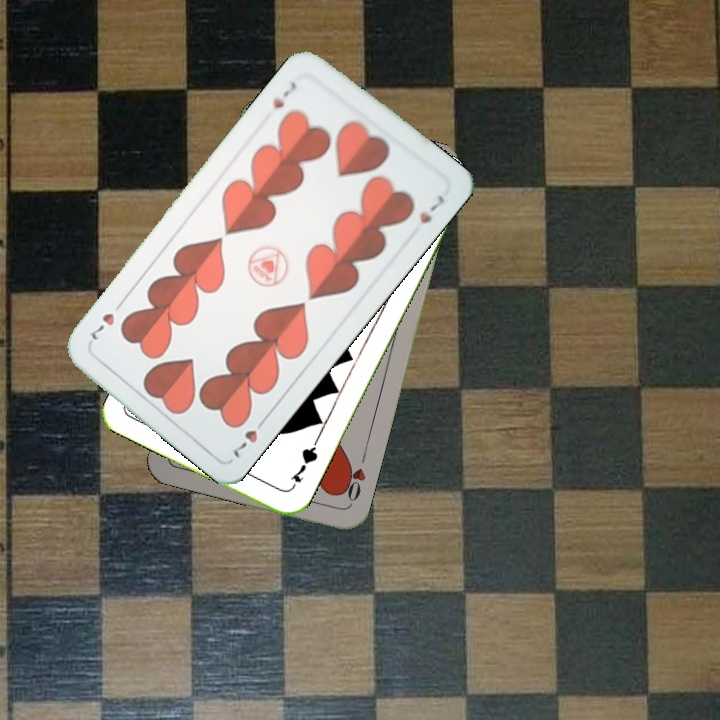G7: (286, 437, 320, 492)
H7: (225, 412, 270, 461), (268, 77, 300, 112)
HO: (337, 448, 369, 507)
